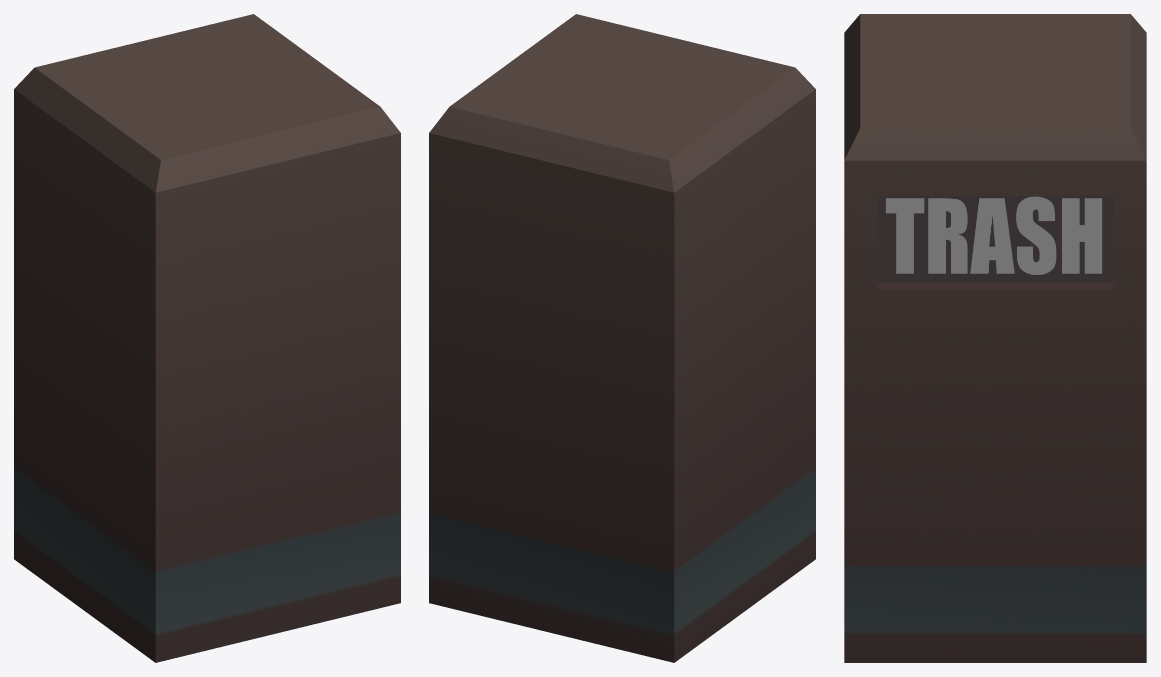
The model's file is Trash.fbx.
The picture shows the model from 3 angles, left to right: view 1: azimuth 30°, elevation 25°; view 2: azimuth 150°, elevation 25°; view 3: azimuth 270°, elevation 25°; orthographic projection. The views are drawn at different scales.
Parts seen in each view (by area): view 1: pCube36; view 2: pCube36; view 3: pCube36.
Part boxes in pixels (<box>): pCube36: <box>14,14,400,662</box>; pCube36: <box>429,14,815,662</box>; pCube36: <box>844,14,1146,662</box>.
Bounding box in the file's own units: 3.24 × 6.23 × 3.24.
1 material, 1 textured.
